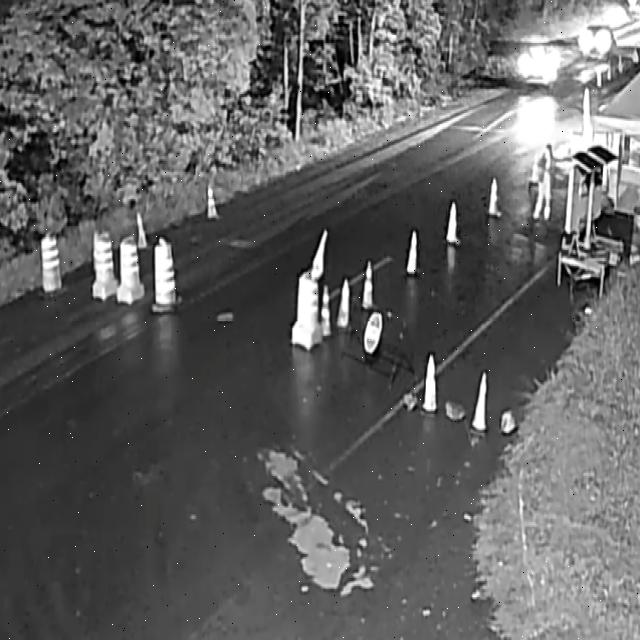big_cone: (297, 268, 320, 349), (156, 240, 176, 313), (94, 230, 114, 300), (121, 236, 139, 306), (42, 227, 60, 294)
small_cone: (471, 369, 490, 436), (422, 354, 438, 417), (200, 180, 222, 225), (336, 277, 352, 335), (129, 210, 150, 254), (486, 177, 507, 220), (362, 259, 379, 312), (404, 227, 420, 280), (321, 285, 334, 336), (446, 198, 459, 247)
